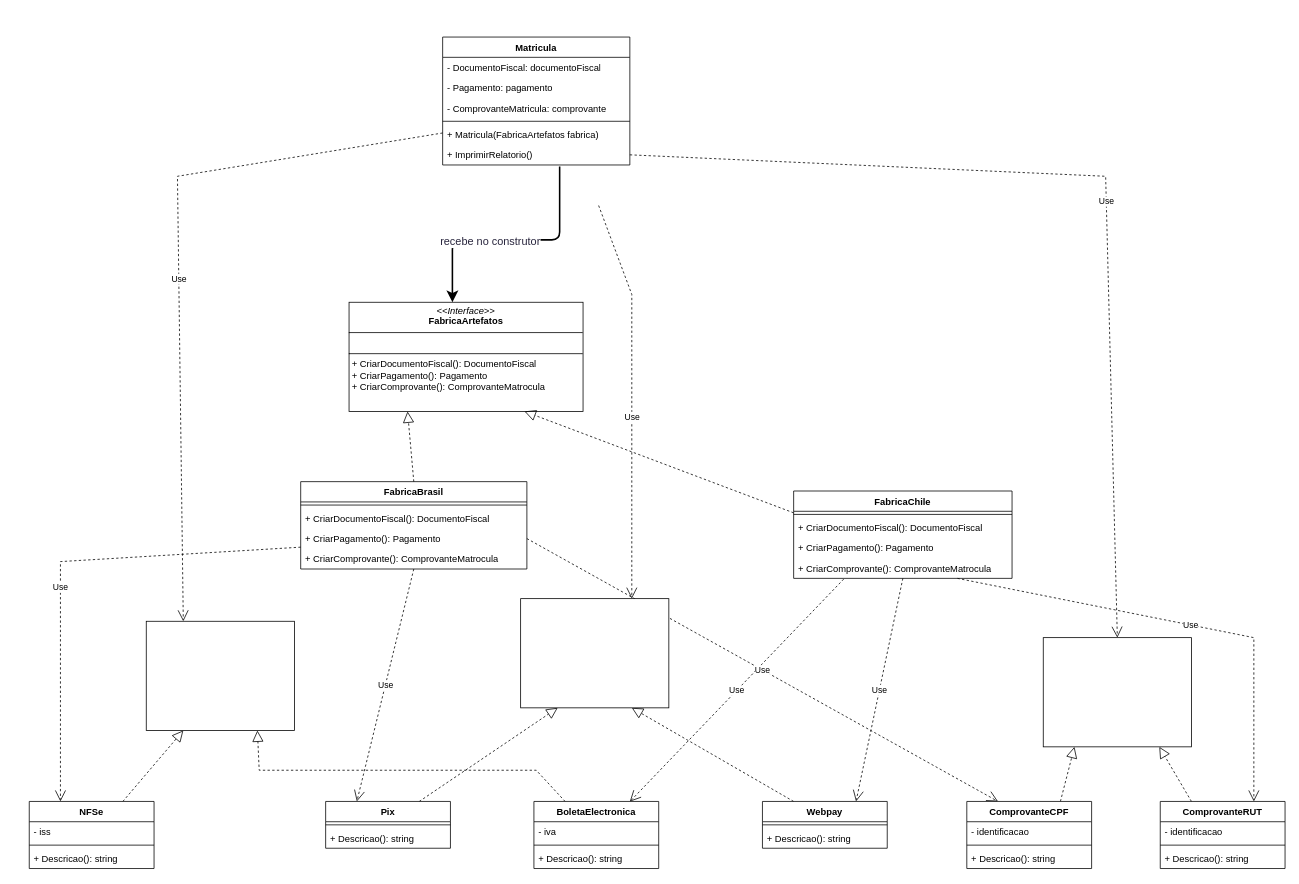
The diagram is 1299 pixels wide and 884 high, and some of its shapes have lost their labels. The shapes that lost their labels are listed below. From the top down, each one's centre as x and y in pixels, then its label:
(x=594, y=653): <<Interface>> Pagamento + Descricao(): string
(x=219, y=675): <<Interface>> DocumentoFiscal + Descricao(): string
(x=1116, y=692): <<Interface>> ComprovanteMatricula + Descricao(): string
